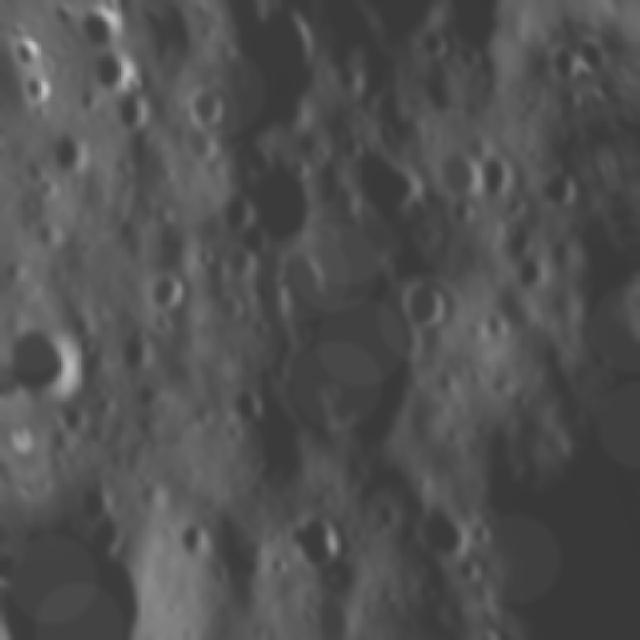crater: (228, 150, 335, 258), (0, 305, 94, 412), (342, 126, 435, 228), (390, 262, 462, 340), (284, 500, 354, 578), (413, 494, 479, 566), (421, 142, 484, 209), (106, 318, 166, 382), (178, 72, 238, 134), (68, 466, 124, 531), (83, 41, 143, 96), (111, 82, 163, 141), (206, 178, 260, 233), (48, 121, 100, 177), (534, 160, 588, 212), (215, 377, 274, 423), (142, 261, 193, 314), (473, 147, 522, 201), (175, 510, 222, 562), (412, 18, 457, 70), (504, 249, 550, 297), (12, 64, 60, 110), (540, 39, 583, 86), (551, 82, 591, 120), (264, 544, 294, 578)
